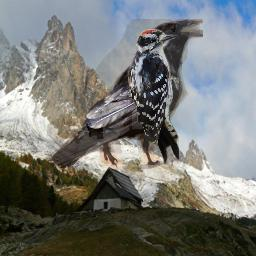Crow: (47, 19, 203, 169)
Woodpecker: (126, 29, 179, 164)
